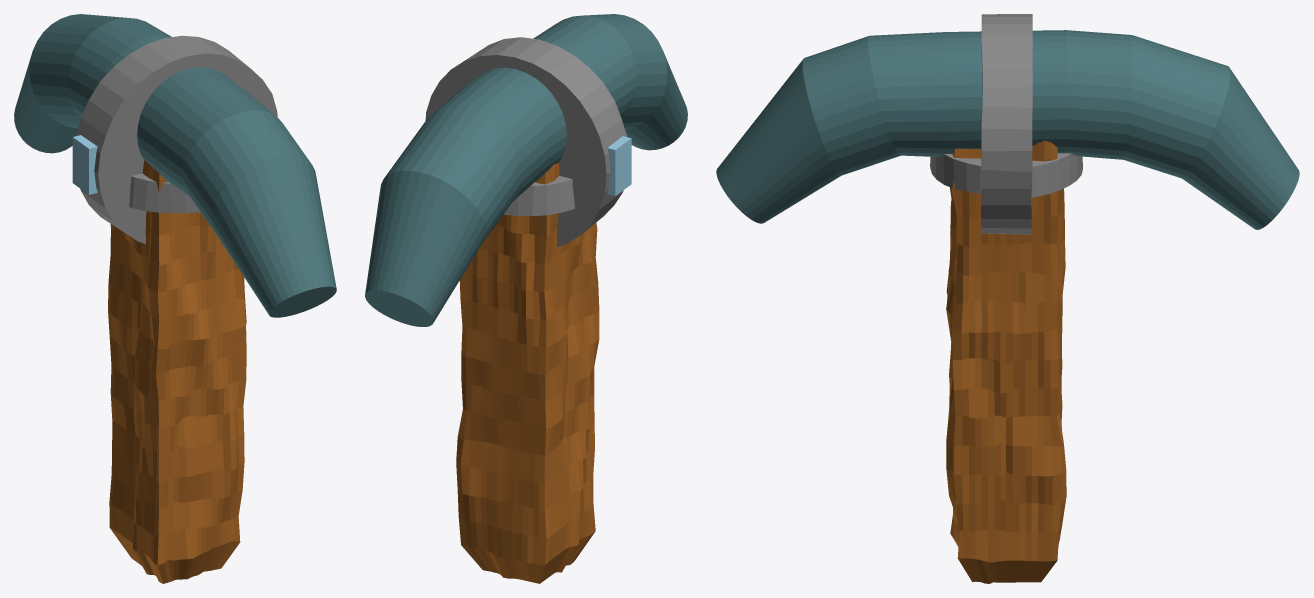
Rendered from picake.fbx.
The picture shows the model from 3 angles, left to right: view 1: azimuth 30°, elevation 25°; view 2: azimuth 150°, elevation 25°; view 3: azimuth 270°, elevation 25°; orthographic projection. The views are drawn at different scales.
Parts seen in each view (by area): view 1: Cube, Cylinder, Cylinder.001, Cylinder.002, Cube.001; view 2: Cube, Cylinder, Cylinder.001, Cylinder.002, Cube.001; view 3: Cylinder, Cube, Cylinder.001, Cylinder.002.
Part boxes in pixels (left/top/right/bottom): Cube: left=108, top=160, right=246, bottom=583; Cylinder: left=14, top=14, right=336, bottom=317; Cylinder.001: left=75, top=35, right=277, bottom=243; Cylinder.002: left=129, top=173, right=199, bottom=213; Cube.001: left=72, top=135, right=97, bottom=194; Cube: left=456, top=162, right=599, bottom=583; Cylinder: left=365, top=14, right=687, bottom=326; Cylinder.001: left=425, top=37, right=626, bottom=246; Cylinder.002: left=503, top=176, right=574, bottom=216; Cube.001: left=607, top=136, right=631, bottom=195; Cylinder: left=716, top=30, right=1299, bottom=229; Cube: left=946, top=140, right=1066, bottom=583; Cylinder.001: left=981, top=14, right=1032, bottom=234; Cylinder.002: left=930, top=153, right=1082, bottom=197.
Bounding box in the file's own units: 167 × 442 × 429.
